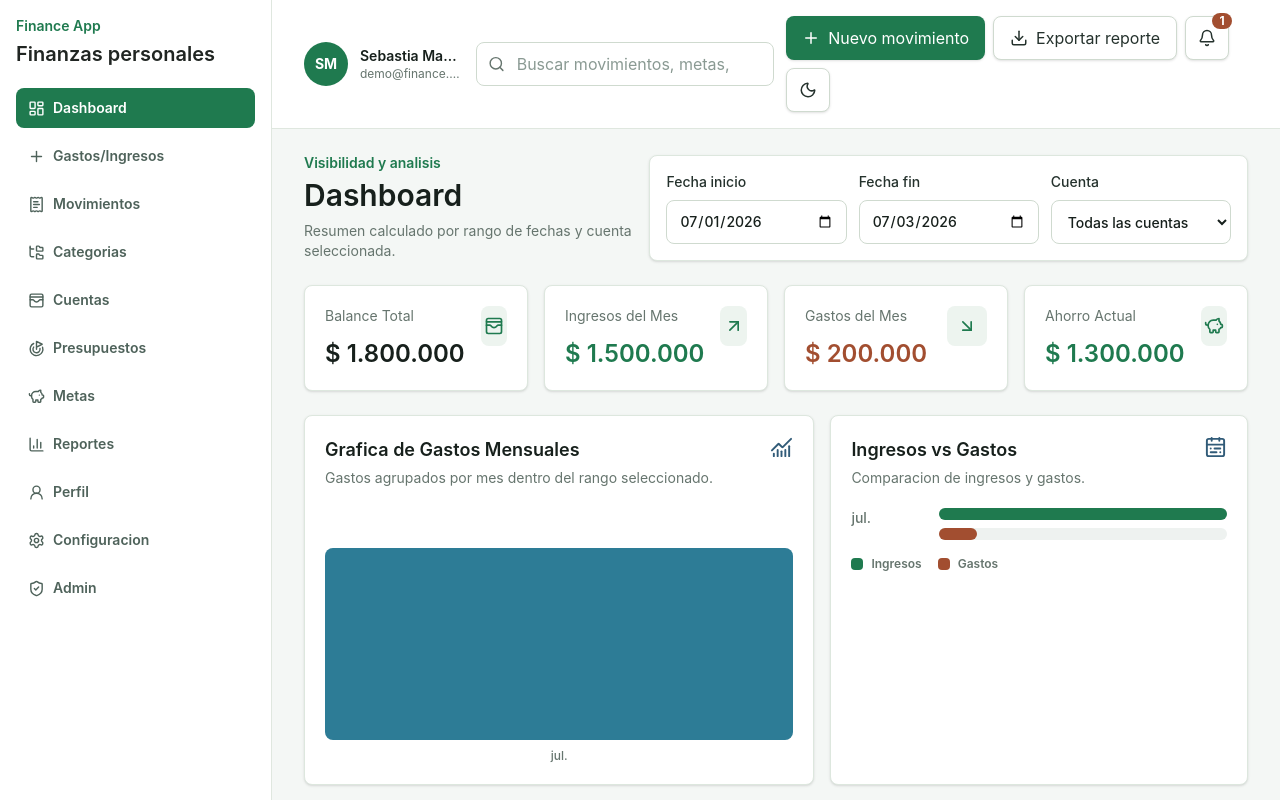
Test case: HU-05 Experiencia Configuracion e Inteligencia › muestra centro de notificaciones gestionable
Step 1. Click the button named "notificaciones" → (1207, 38), box x1=1185 y1=16 x2=1229 y2=60
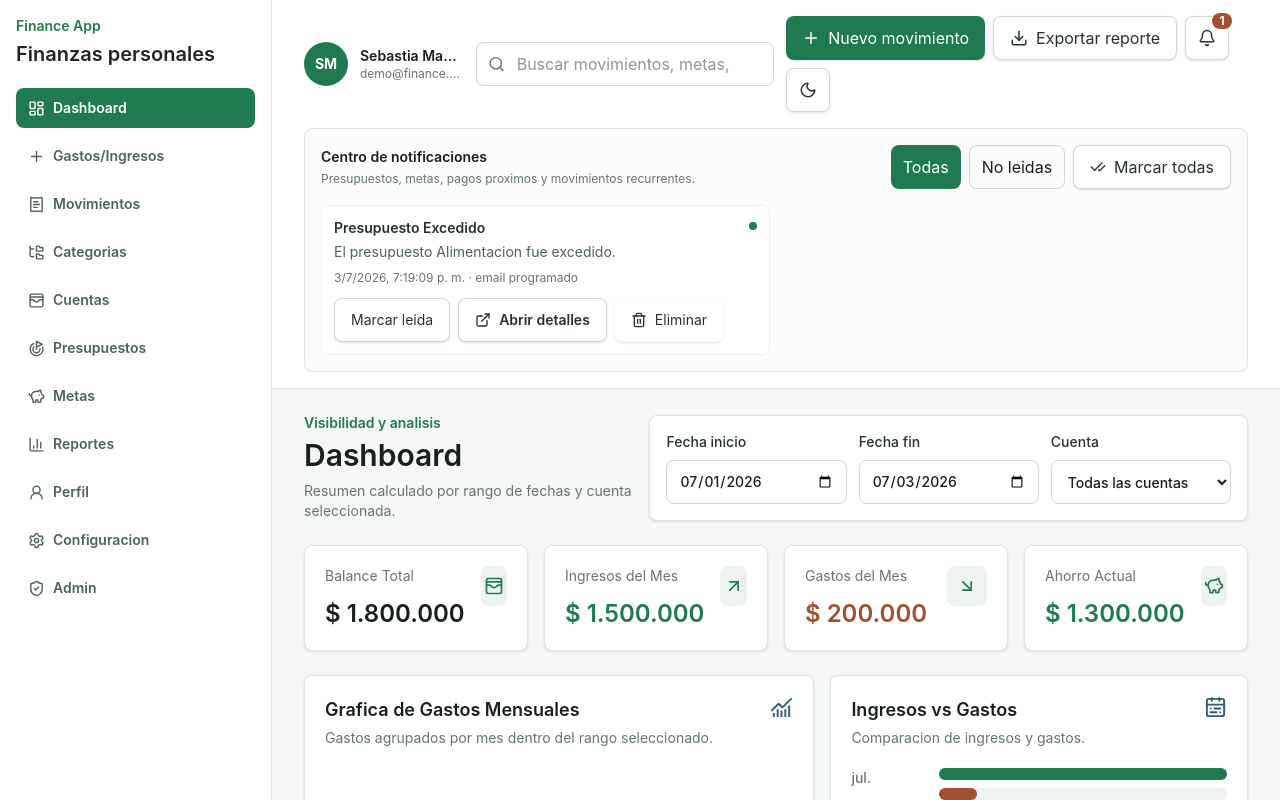
Check: the heading "Centro de notificaciones" is shown, box x1=321 y1=148 x2=487 y2=165
Check: the text "Presupuesto Excedido" is shown, box x1=334 y1=219 x2=485 y2=236
Check: the button "Marcar todas" is shown, box x1=1073 y1=145 x2=1231 y2=189
